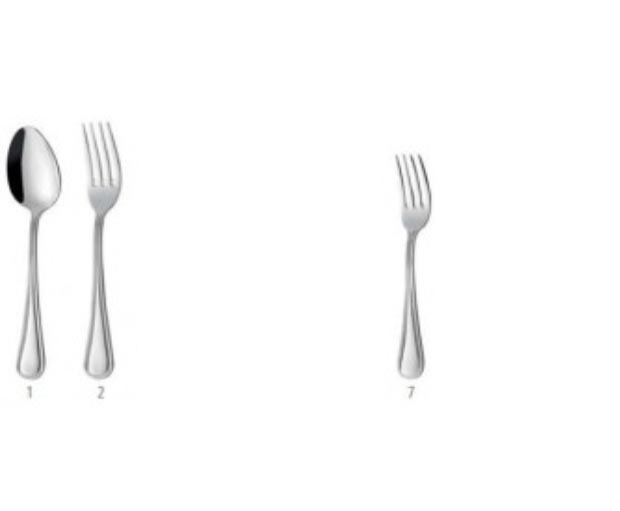Lyzka: (5, 123, 65, 216)
Widelec: (78, 119, 125, 214), (390, 149, 434, 234)
